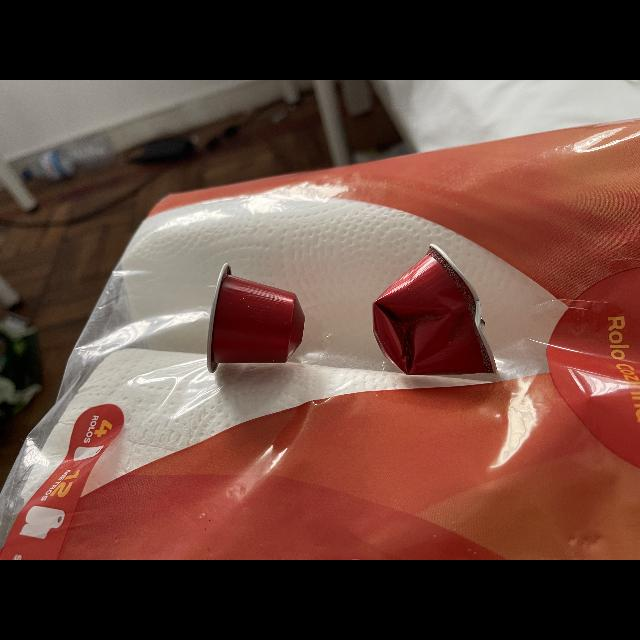damaged_capsule: (366, 240, 514, 380)
intact_capsule: (191, 263, 313, 379)
